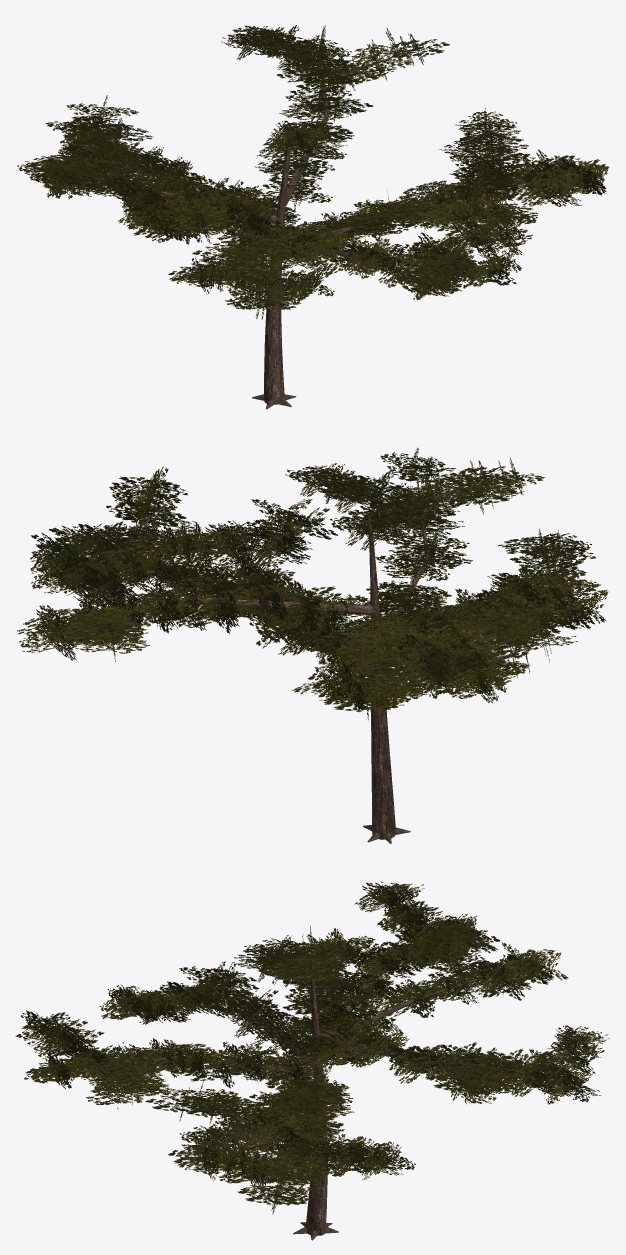
Rendered from tree_3d_06_lod0.glb.
3 views of the same model, one above another, from view 1: azimuth 30°, elevation 25°; view 2: azimuth 150°, elevation 25°; view 3: azimuth 270°, elevation 25° (orthographic). The views are drawn at different scales.
Parts seen in each view (by area): view 1: foliage_cards, wood_geometry; view 2: foliage_cards, wood_geometry; view 3: foliage_cards, wood_geometry.
Boxes of the visible parts, left/top/right/bottom form: foliage_cards: left=17, top=25, right=609, bottom=319; wood_geometry: left=95, top=38, right=564, bottom=409; foliage_cards: left=17, top=447, right=608, bottom=721; wood_geometry: left=60, top=478, right=579, bottom=843; foliage_cards: left=15, top=881, right=609, bottom=1214; wood_geometry: left=54, top=920, right=582, bottom=1240.
Bounding box in the file's own units: 14.66 × 7.46 × 14.25.
Materials: 2 (2 with a texture image).
